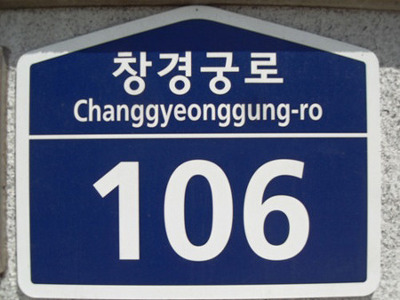building_license_plate1: (15, 5, 382, 300)
